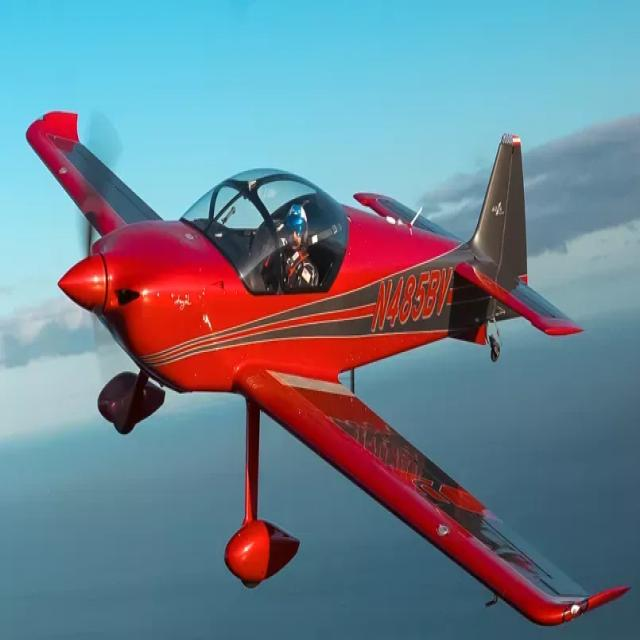jet: (10, 63, 640, 640)
